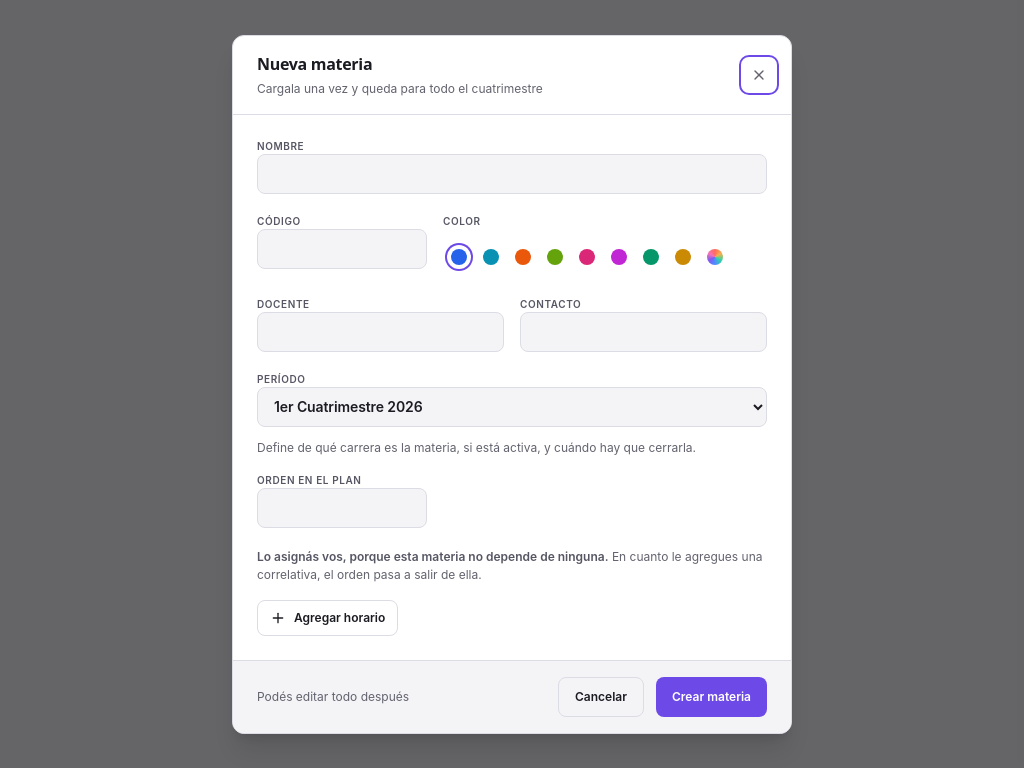
Test: NuevaMateriaModal › does not submit when name is missing and a slot is missing
Type "ALG-101" into the field labelled "CÓDIGO".
click(342, 248); type("ALG-101")  # box [257, 228, 427, 268]
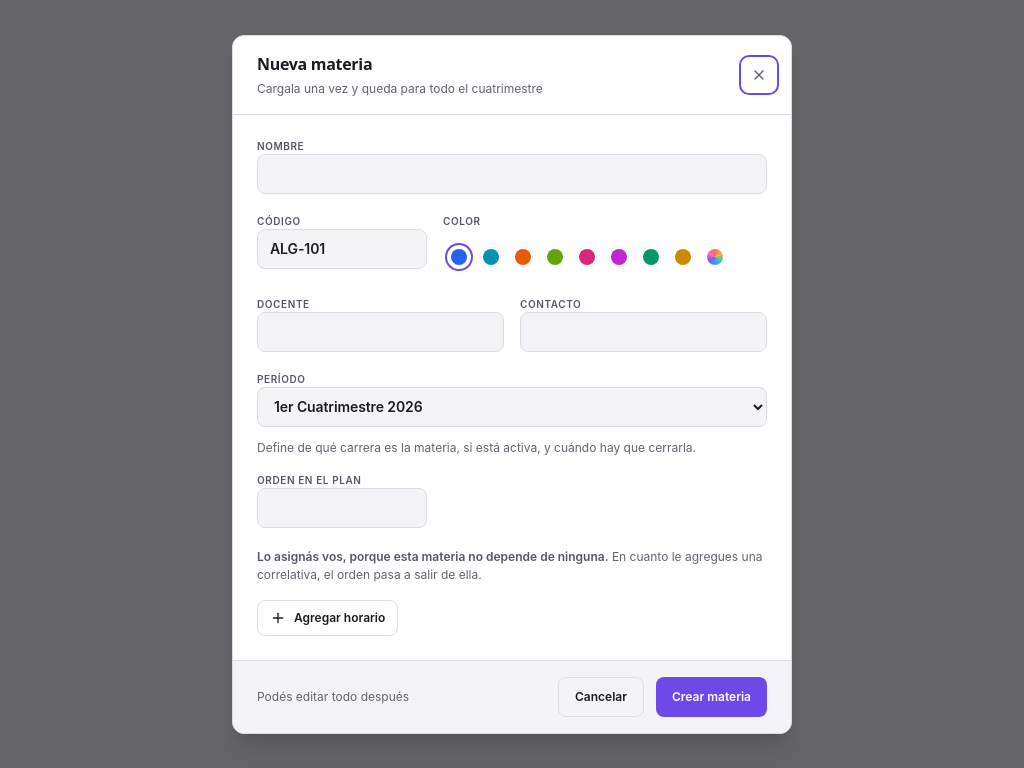
Click the button named "Color #22D3EE".
click(491, 256)  # box [479, 244, 503, 268]
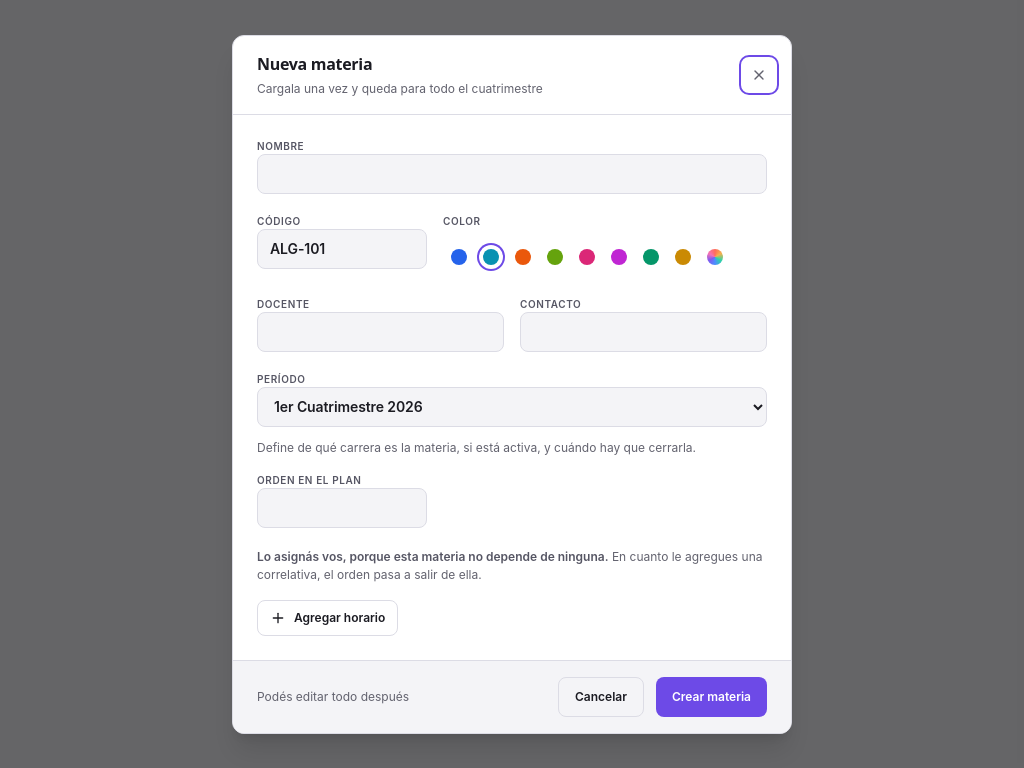
Click the button "Crear materia".
click(712, 696)  # box [656, 676, 767, 716]
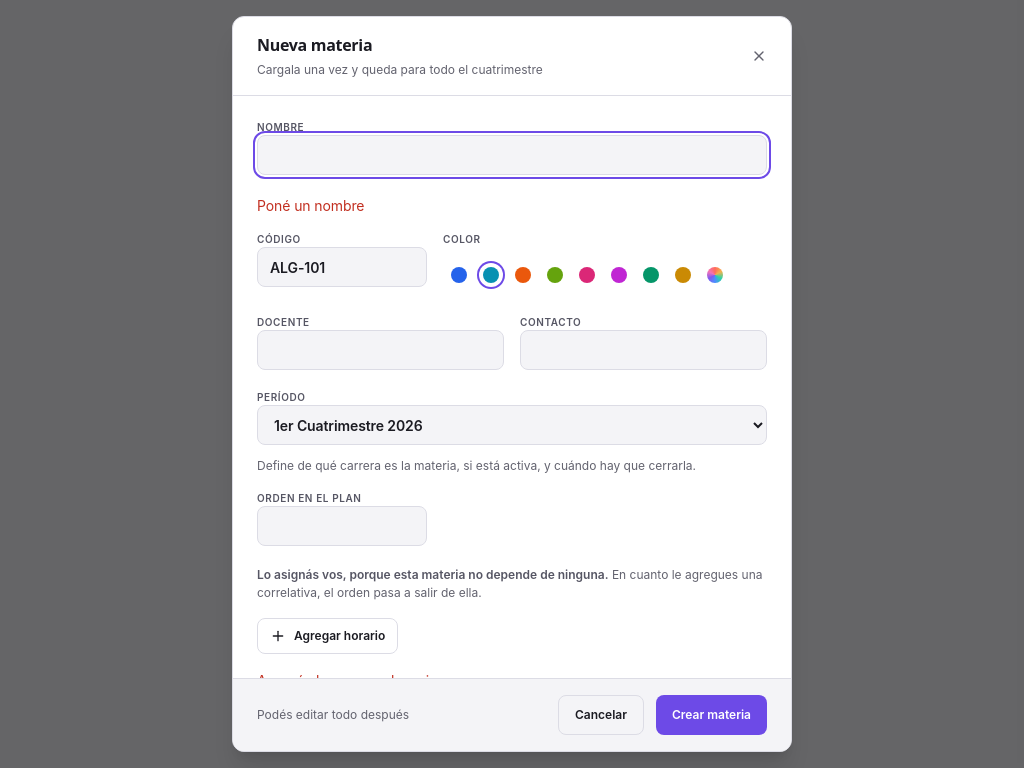
Expected: the text "Poné un nombre" is shown, [257, 197, 364, 214]
